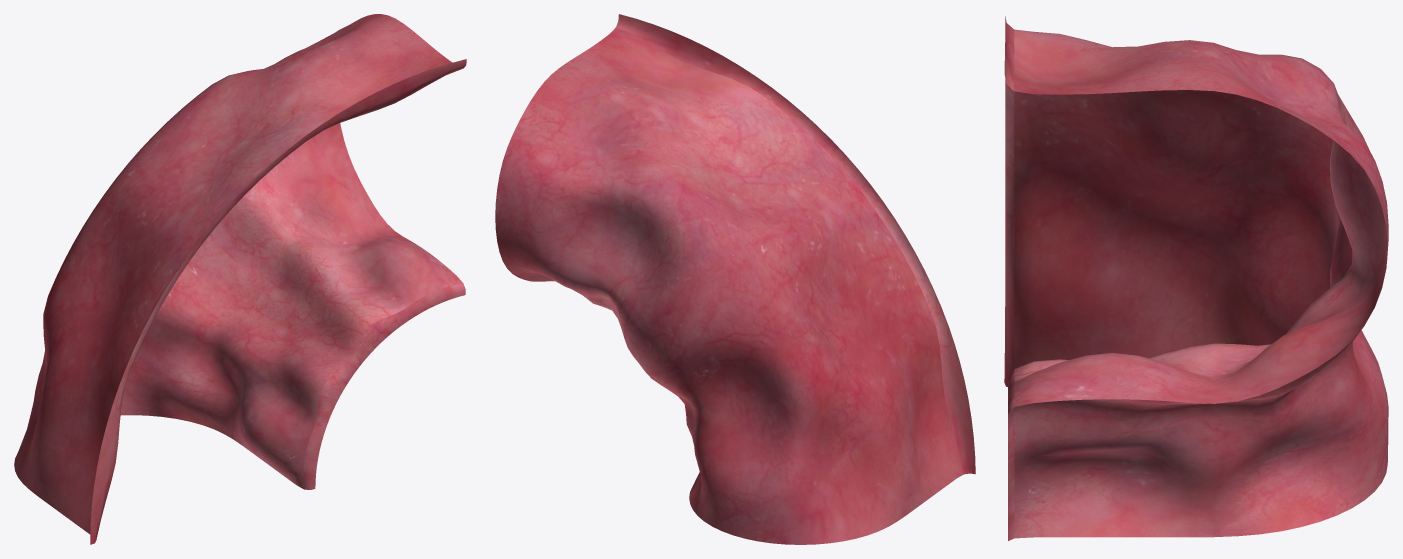
The model's file is Corner part test 01.FBX.
3 renders of one model, left to right at view 1: azimuth 30°, elevation 25°; view 2: azimuth 150°, elevation 25°; view 3: azimuth 270°, elevation 25°, orthographic. The views are drawn at different scales.
Visible parts, largest first — view 1: ThroatEnvironment018; view 2: ThroatEnvironment018; view 3: ThroatEnvironment018.
Part boxes in pixels (<box>): ThroatEnvironment018: <box>14,14,466,544</box>; ThroatEnvironment018: <box>495,14,975,544</box>; ThroatEnvironment018: <box>1004,16,1388,540</box>.
Size of the model in its own units: 164 by 164 by 98.61.
